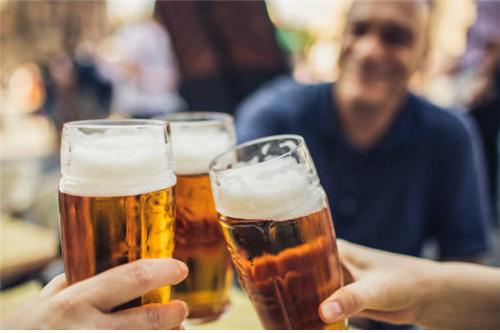alcohol: (206, 135, 347, 333), (59, 121, 177, 310), (162, 112, 235, 324)
